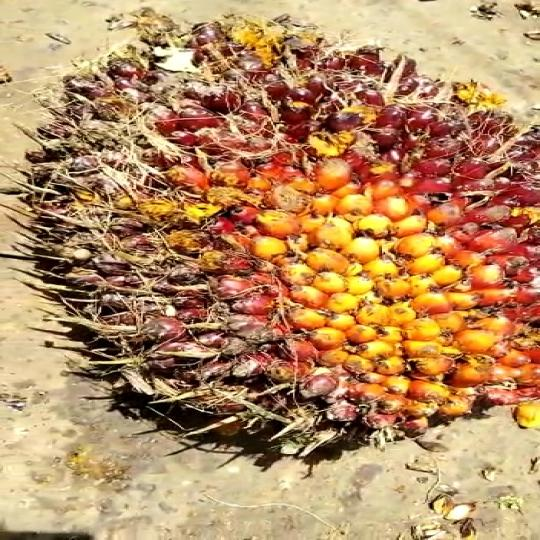kurang masak: (27, 19, 540, 460)
